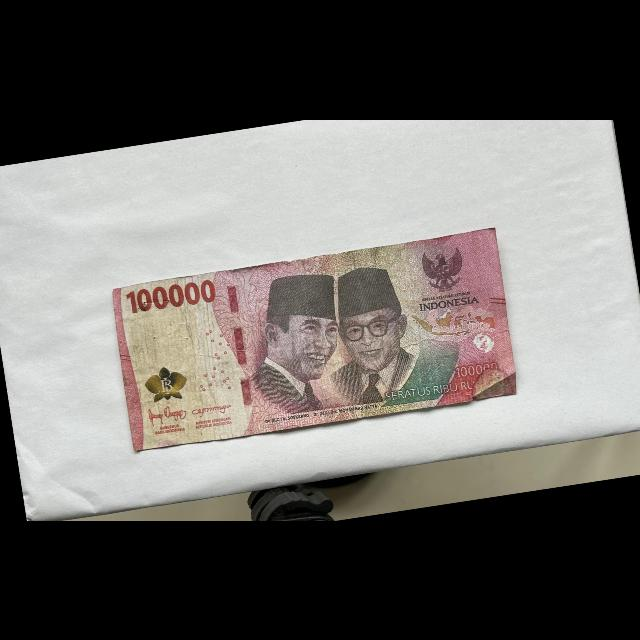Palsu-100k: (104, 223, 523, 456)
Tinta-Palsu-100k: (141, 362, 191, 404)
